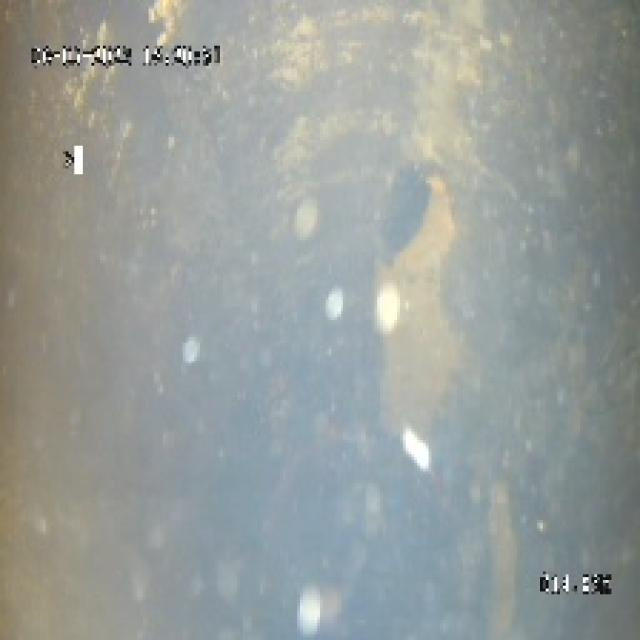pipe_surface_damage: (360, 151, 463, 403)
